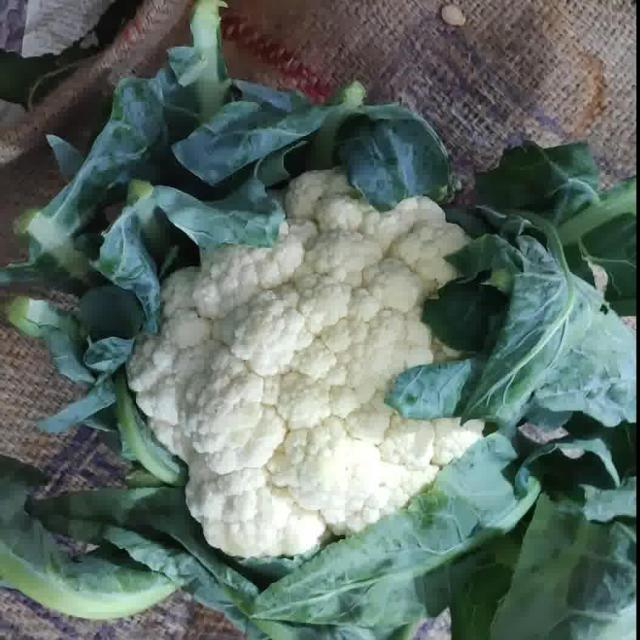Cauliflower: (119, 164, 500, 560)
